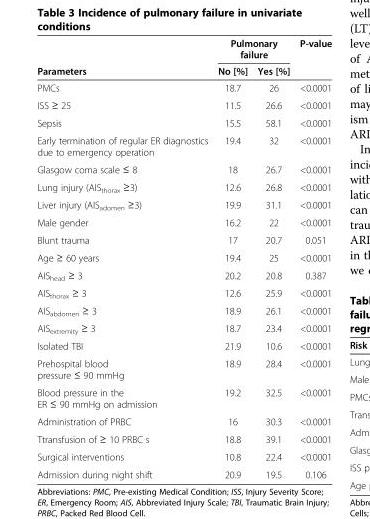table: (36, 37, 331, 479)
table column: (36, 37, 212, 479), (251, 37, 294, 479), (212, 37, 251, 479), (294, 37, 331, 479)
table column header: (36, 37, 331, 79)
table row: (36, 131, 331, 160), (36, 354, 331, 383), (36, 383, 331, 412), (36, 37, 331, 62), (36, 95, 331, 113), (36, 113, 331, 131), (36, 177, 331, 195), (36, 195, 331, 213), (36, 230, 331, 248), (36, 248, 331, 266), (36, 266, 331, 284), (36, 301, 331, 319), (36, 319, 331, 337), (36, 429, 331, 447), (36, 447, 331, 465), (36, 62, 331, 79), (36, 160, 331, 177), (36, 213, 331, 230), (36, 284, 331, 301), (36, 337, 331, 354), (36, 412, 331, 429), (36, 79, 331, 95), (36, 465, 331, 479)
table spanning cell: (36, 37, 212, 79), (212, 37, 294, 62), (294, 37, 331, 79)
